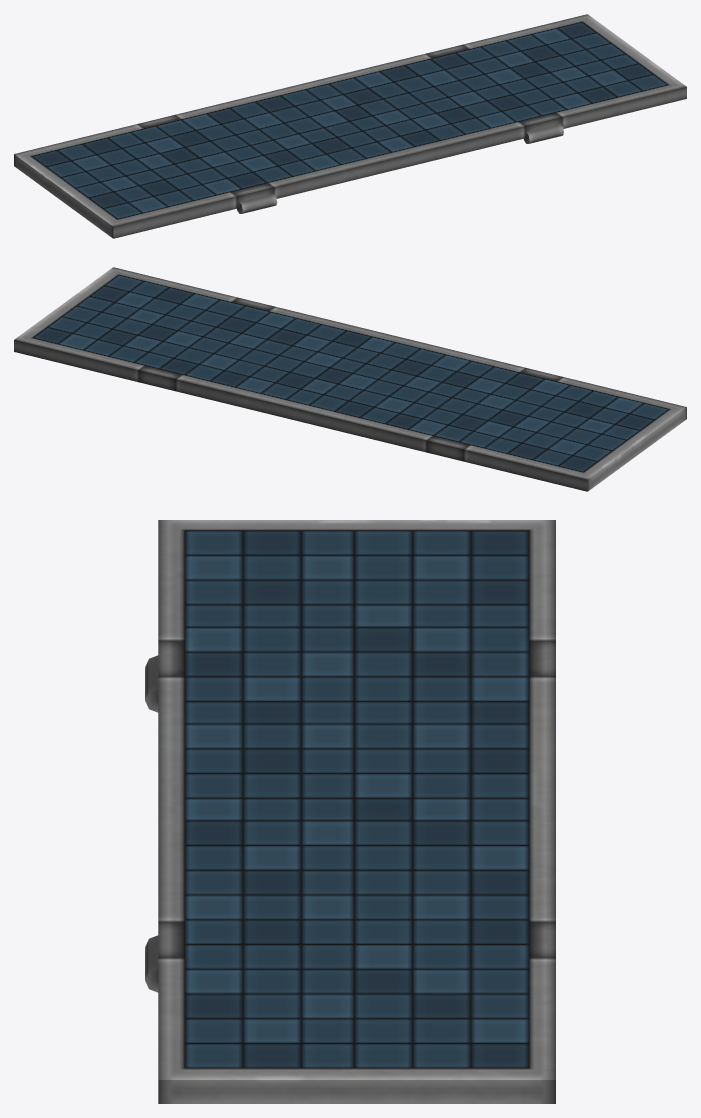
The model's file is acamar_solar_srf_1.obj.
3 views of the same model, one above another, from view 1: azimuth 30°, elevation 25°; view 2: azimuth 150°, elevation 25°; view 3: azimuth 270°, elevation 25° (orthographic). The views are drawn at different scales.
Parts seen in each view (by area): view 1: mesh1; view 2: mesh1; view 3: mesh1.
Part boxes in pixels (x1,y1,x2,y2): mesh1: (14, 14, 686, 238); mesh1: (14, 267, 686, 491); mesh1: (145, 520, 555, 1103).
Size of the model in its own units: 1.25 by 0.0375 by 0.3875.
1 material, 1 textured.
